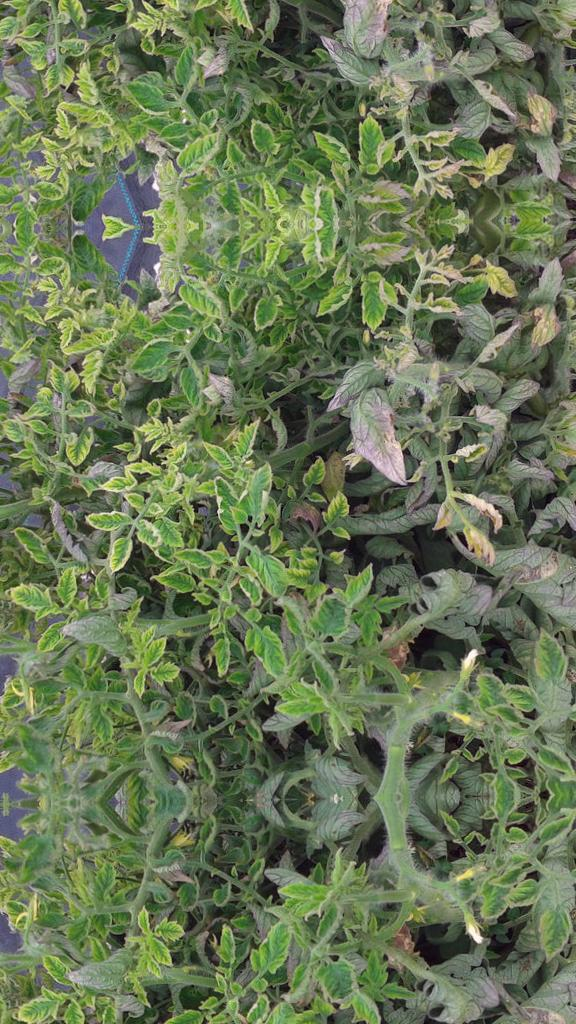Tomato leaf yellow virus: (240, 613, 294, 684), (309, 576, 361, 642), (174, 273, 232, 329), (338, 556, 385, 616), (359, 264, 400, 332), (247, 538, 291, 601), (125, 341, 188, 381), (31, 613, 87, 655), (271, 693, 349, 720), (250, 286, 288, 341), (10, 582, 64, 620), (246, 459, 276, 522), (210, 473, 248, 522), (178, 364, 212, 415), (315, 277, 355, 320), (231, 413, 266, 461), (299, 439, 328, 493), (196, 435, 238, 472), (79, 347, 110, 397), (28, 253, 81, 280), (54, 562, 86, 604), (85, 505, 132, 533), (178, 543, 219, 573), (321, 489, 350, 531), (141, 632, 171, 672), (133, 513, 168, 547), (65, 431, 99, 465), (110, 534, 139, 573), (149, 571, 196, 595), (98, 471, 139, 497), (0, 415, 33, 442), (0, 581, 3, 627), (0, 305, 3, 350)
